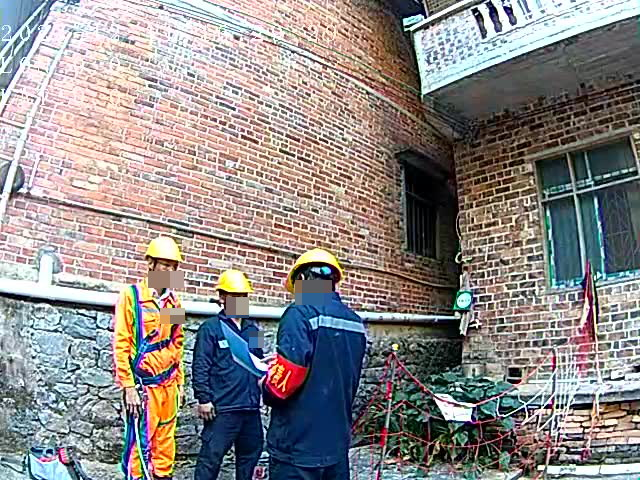badge: (265, 353, 309, 403)
downsuit: (192, 417, 262, 480)
halt: (282, 246, 345, 295), (143, 236, 183, 286), (213, 269, 254, 312)
hand: (124, 387, 143, 420), (198, 401, 216, 421)
inear: (292, 272, 312, 297), (146, 254, 158, 279), (216, 290, 230, 311)
person: (259, 247, 372, 480), (112, 232, 185, 480), (190, 267, 266, 480)
safebelt: (112, 281, 182, 480)
upsuit: (261, 289, 369, 460), (192, 314, 266, 411)
worksign: (452, 289, 473, 311)
ydownsuit: (128, 388, 179, 480)
yupsuit: (114, 284, 182, 387)
